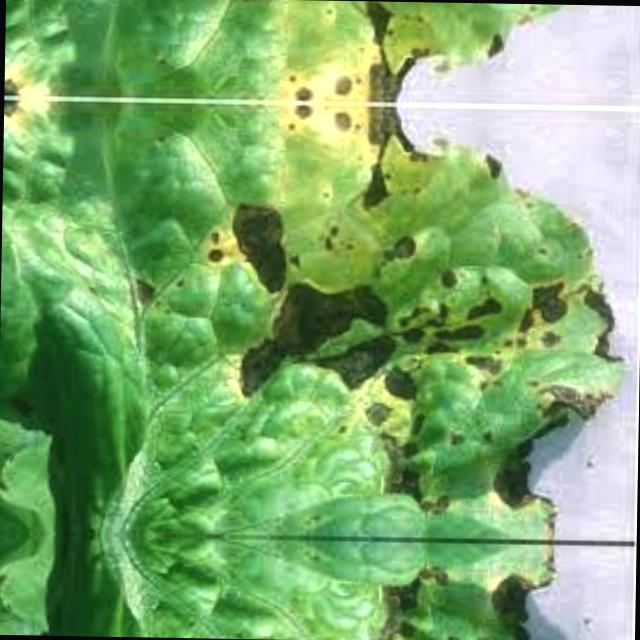Lettuce - Anthracnose: (27, 98, 623, 542), (25, 532, 615, 640), (34, 0, 624, 106)
